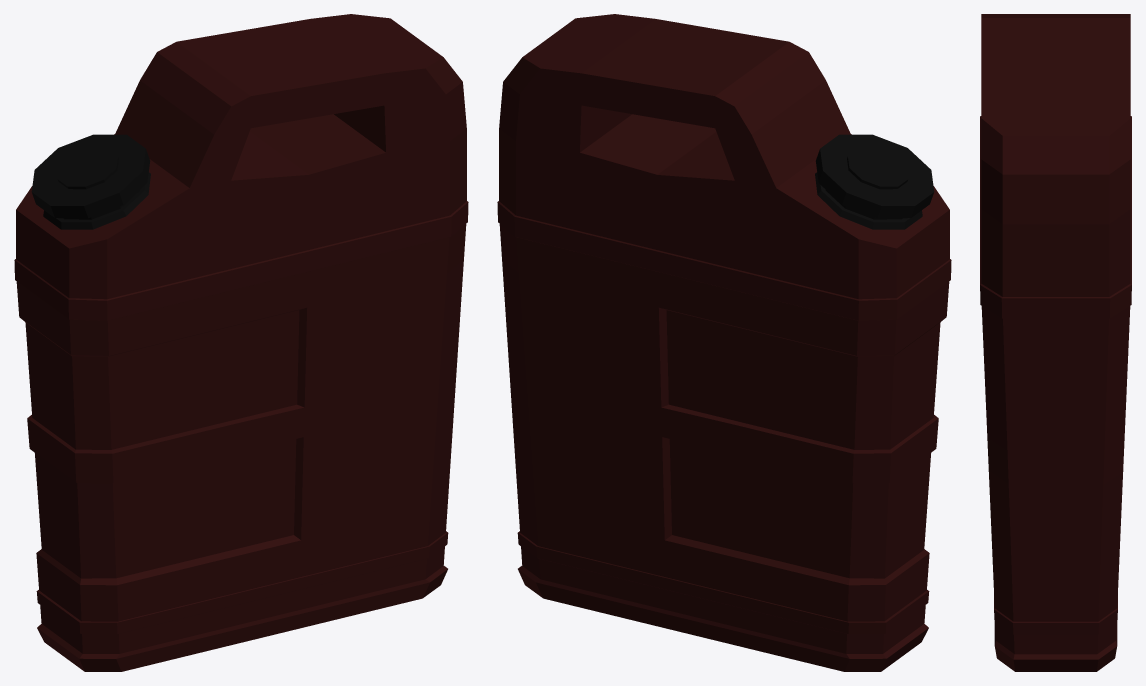
Rendered from GasCan.FBX.
3 renders of one model, left to right at view 1: azimuth 30°, elevation 25°; view 2: azimuth 150°, elevation 25°; view 3: azimuth 270°, elevation 25°, orthographic.
Parts seen in each view (by area): view 1: GasCan, Group001; view 2: GasCan, Group001; view 3: GasCan.
Part boxes in pixels (x1,y1,x2,y2): GasCan: (14, 14, 468, 671); Group001: (31, 134, 150, 229); GasCan: (497, 14, 951, 671); Group001: (815, 134, 934, 229); GasCan: (980, 14, 1131, 671).
Bounding box in the file's own units: 73.92 × 97.36 × 24.23.
